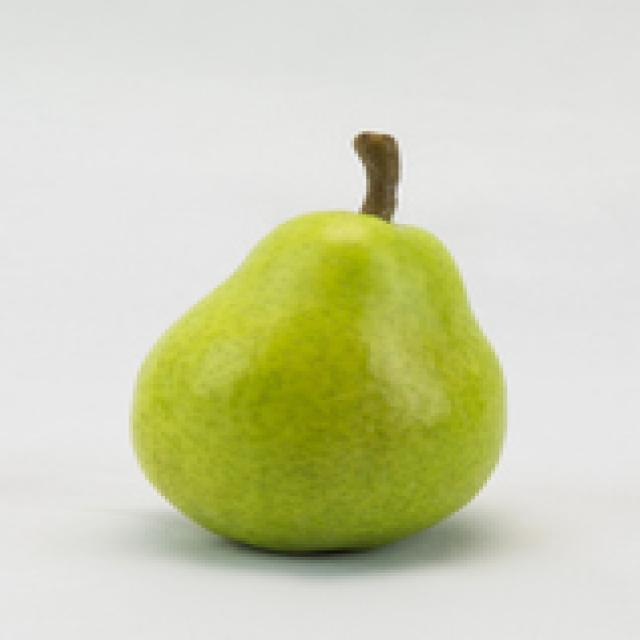pear: (125, 131, 510, 556)
